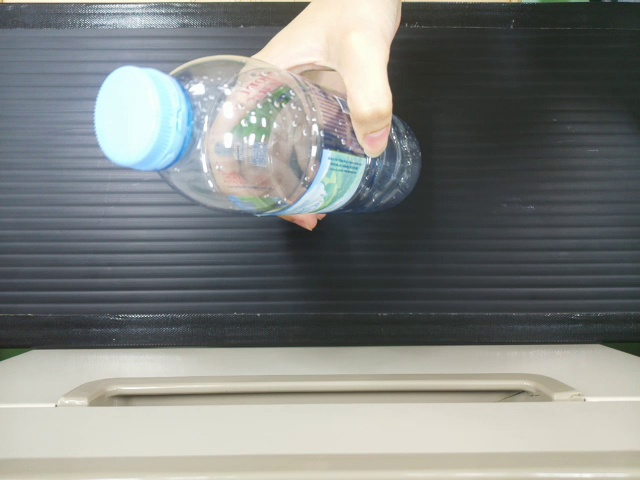bottle: (95, 48, 422, 217)
